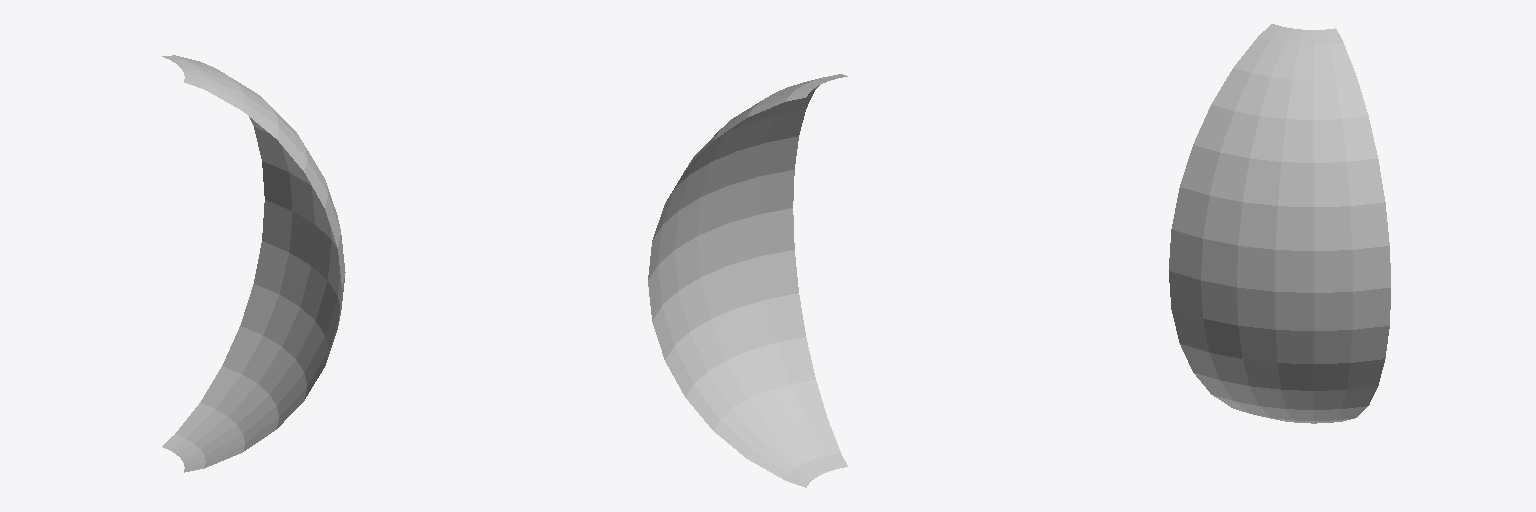
The model's file is ParteAzul.obj.
3 views of the same model, side by side, from view 1: azimuth 30°, elevation 25°; view 2: azimuth 150°, elevation 25°; view 3: azimuth 270°, elevation 25° (orthographic).
Visible parts, largest first — view 1: BolaAzul; view 2: BolaAzul; view 3: BolaAzul.
Boxes of the visible parts, x1,y1,x2,y2 form: BolaAzul: [162, 55, 345, 472]; BolaAzul: [648, 74, 847, 487]; BolaAzul: [1169, 24, 1390, 423].
Size of the model in its own units: 0.1237 by 0.3025 by 0.1564.